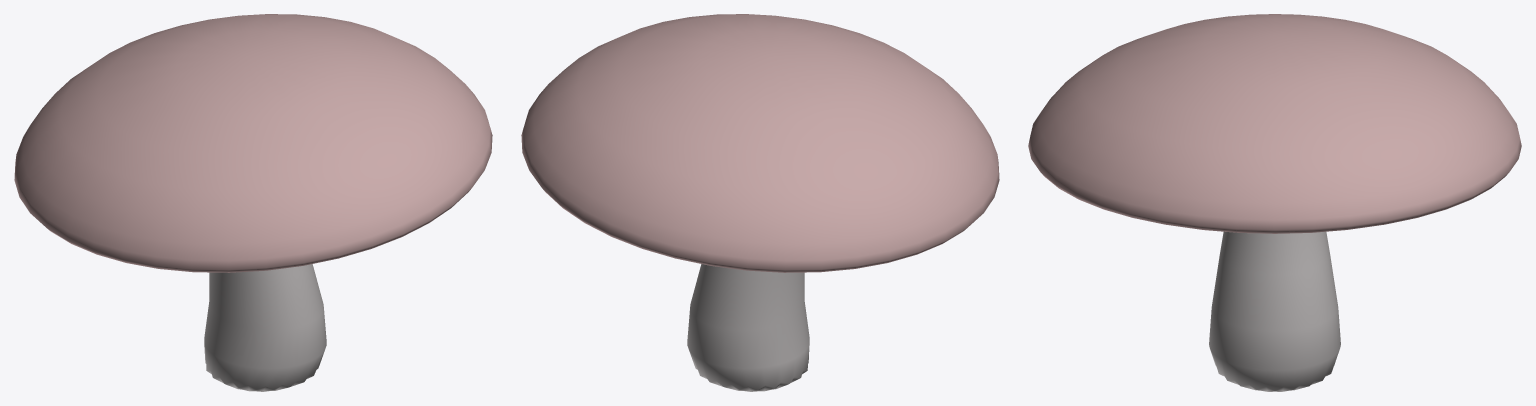
Rendered from MushroomA_00.fbx.
3 views of the same model, side by side, from view 1: azimuth 30°, elevation 25°; view 2: azimuth 150°, elevation 25°; view 3: azimuth 270°, elevation 25° (orthographic). The views are drawn at different scales.
Visible parts, largest first — view 1: pSphere5; view 2: pSphere5; view 3: pSphere5.
Part boxes in pixels (<box>): pSphere5: <box>14,14,492,391</box>; pSphere5: <box>521,14,999,391</box>; pSphere5: <box>1028,14,1521,391</box>.
Bounding box in the file's own units: 7.93 × 5.88 × 7.96.
